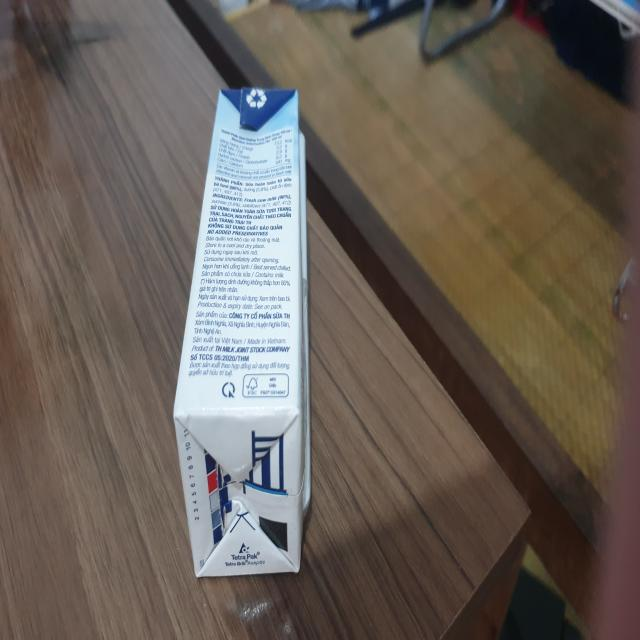TH: (173, 88, 317, 583)
